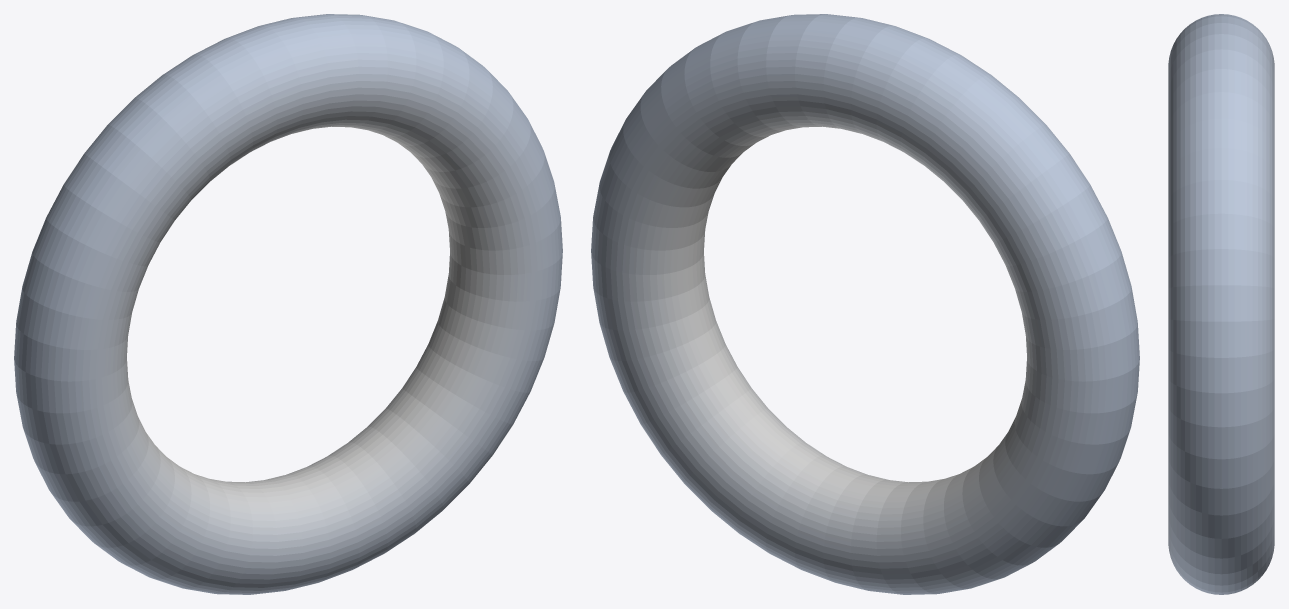
3 renders of one model, left to right at view 1: azimuth 30°, elevation 25°; view 2: azimuth 150°, elevation 25°; view 3: azimuth 270°, elevation 25°, orthographic. The views are drawn at different scales.
Visible parts, largest first — view 1: world; view 2: world; view 3: world.
Part boxes in pixels (x1,y1,x2,y2): world: [14, 14, 562, 594]; world: [591, 14, 1139, 594]; world: [1168, 14, 1274, 594].
Size of the model in its own units: 26.93 by 26.88 by 4.92.
